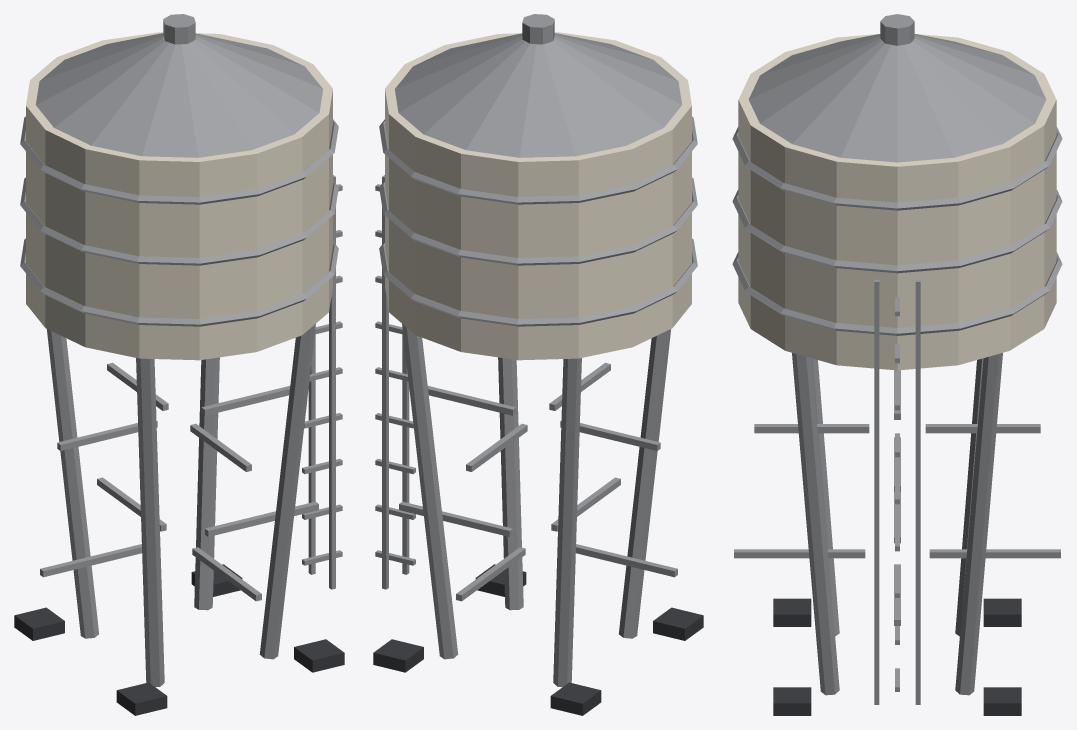
Rendered from water_tower.glb.
3 renders of one model, left to right at view 1: azimuth 30°, elevation 25°; view 2: azimuth 150°, elevation 25°; view 3: azimuth 270°, elevation 25°, orthographic. The views are drawn at different scales.
Parts seen in each view (by area): view 1: water_tower; view 2: water_tower; view 3: water_tower.
Part boxes in pixels (<box>): water_tower: <box>14,14,344,715</box>; water_tower: <box>373,14,703,715</box>; water_tower: <box>732,14,1062,715</box>.
Size of the model in its own units: 2.06 by 4.1 by 1.91.
